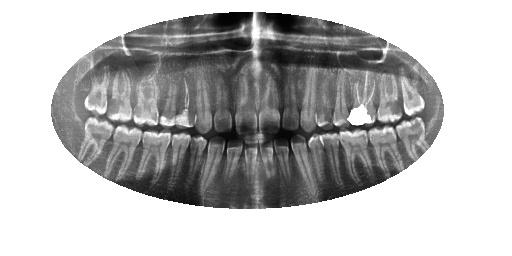i10decay: (220, 129, 246, 196)
i11decay: (196, 127, 227, 207)
i12healthy: (182, 131, 210, 199)
i13healthy: (165, 128, 193, 206)
i14healthy: (134, 122, 171, 199)
i15healthy: (99, 121, 145, 191)
i16healthy: (72, 111, 118, 181)
i1healthy: (394, 116, 433, 163)
i2healthy: (366, 123, 407, 183)
i3healthy: (337, 128, 378, 187)
i4healthy: (320, 128, 348, 197)
i5healthy: (306, 130, 327, 192)
i6healthy: (287, 131, 319, 202)
i7loss: (272, 132, 296, 198)
i8decay: (258, 133, 276, 196)
i9decay: (241, 131, 262, 191)
u10healthy: (209, 63, 236, 136)
u11healthy: (188, 70, 218, 137)
u12decay: (173, 70, 198, 130)
u13decay: (159, 74, 182, 130)
u14decay: (129, 68, 163, 135)
u15decay: (104, 58, 133, 124)
u16healthy: (83, 56, 111, 121)
u1healthy: (394, 63, 430, 124)
u2healthy: (373, 67, 407, 124)
u3healthy: (345, 68, 382, 128)
u4healthy: (328, 63, 352, 131)
u5healthy: (312, 56, 337, 134)
u6healthy: (295, 56, 320, 138)
u7healthy: (280, 59, 303, 135)
u8healthy: (258, 56, 282, 139)
u9healthy: (231, 60, 262, 142)
